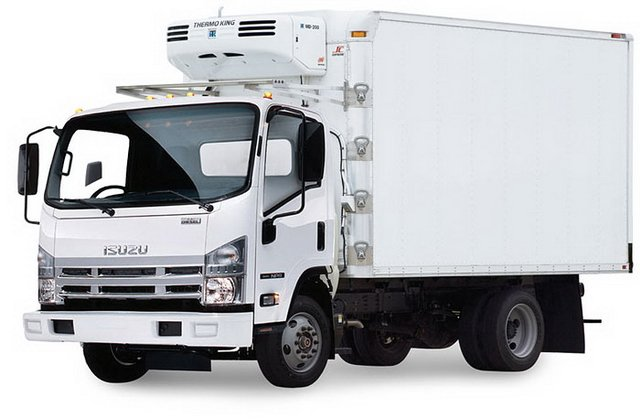truck: (28, 7, 635, 388)
